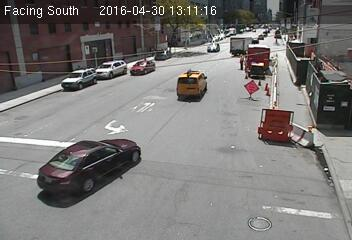neg: (123, 82, 138, 102), (242, 87, 253, 102), (102, 126, 113, 141), (199, 72, 208, 84), (157, 110, 166, 122)
pos: (235, 51, 249, 70)
